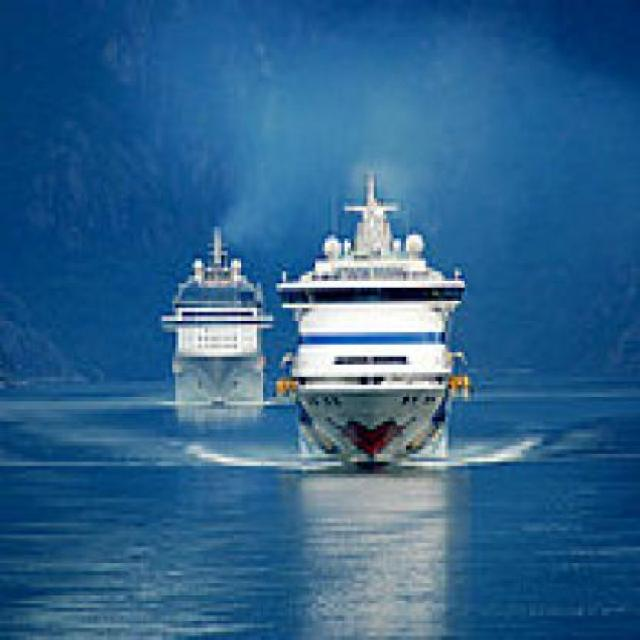cruise: (271, 162, 479, 475)
